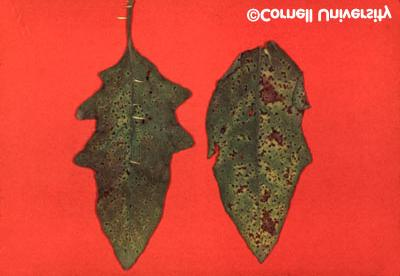Tomato Septoria leaf spot: (72, 33, 196, 271), (205, 38, 318, 273)
